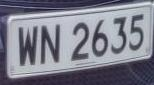2: (69, 17, 91, 68)
3: (110, 12, 130, 59)
5: (127, 10, 146, 54)
6: (89, 15, 112, 63)
N: (40, 21, 64, 71)
W: (15, 22, 41, 71)
